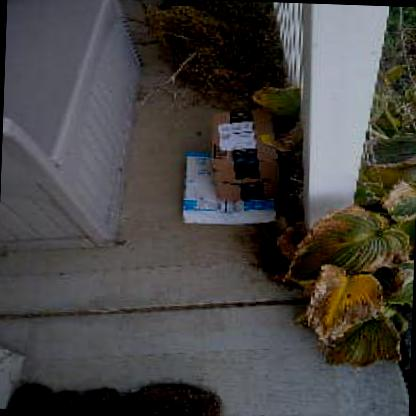box: (207, 110, 281, 203)
plastic_bag: (182, 149, 279, 230)
